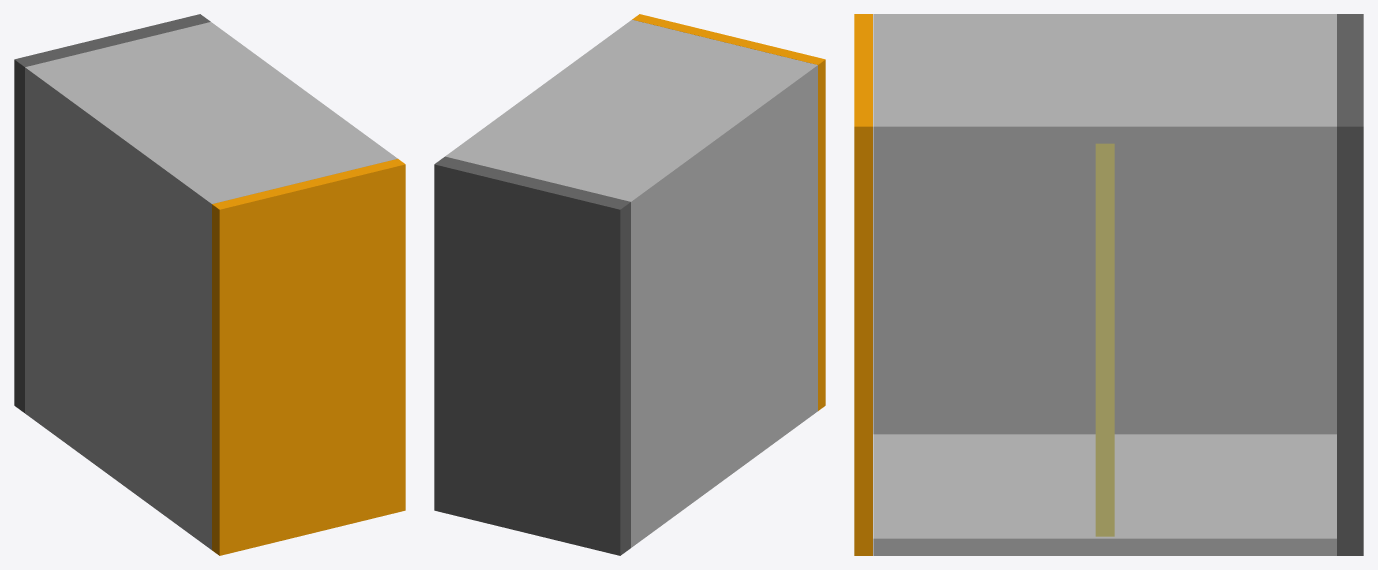
File: nil_link_mesh.dae
3 views of the same model, side by side, from view 1: azimuth 30°, elevation 25°; view 2: azimuth 150°, elevation 25°; view 3: azimuth 270°, elevation 25° (orthographic). The views are drawn at different scales.
Visible parts, largest first — view 1: nil_link (×5); view 2: nil_link (×5); view 3: nil_link (×6).
Part boxes in pixels (box(x1,y1,x2,y2)): nil_link (×5): box(14, 14, 405, 555); nil_link (×5): box(434, 14, 825, 555); nil_link (×6): box(854, 14, 1363, 555).
Size of the model in its own units: 0.45 by 0.8 by 0.8605.
